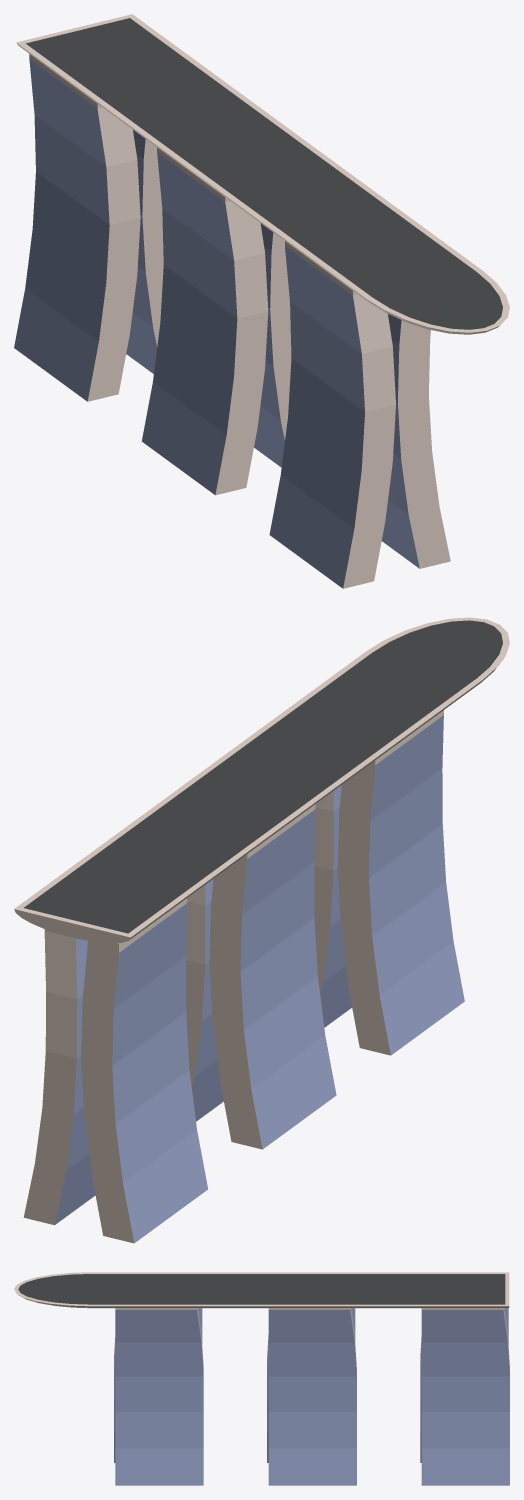
Rendered from marina_bay_sands.glb.
3 renders of one model, top to bottom at view 1: azimuth 30°, elevation 25°; view 2: azimuth 150°, elevation 25°; view 3: azimuth 270°, elevation 25°, orthographic. The views are drawn at different scales.
Parts seen in each view (by area): view 1: Marina Bay; view 2: Marina Bay; view 3: Marina Bay.
Part boxes in pixels (x1=…): Marina Bay: x1=14, y1=14, x2=509, y2=588; Marina Bay: x1=14, y1=617, x2=509, y2=1243; Marina Bay: x1=14, y1=1272, x2=509, y2=1485.
Bounding box in the file's own units: 12.6 × 30.78 × 75.8.
